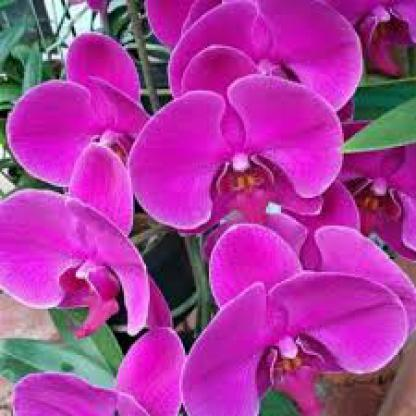ANGGREK: (27, 21, 397, 397)
